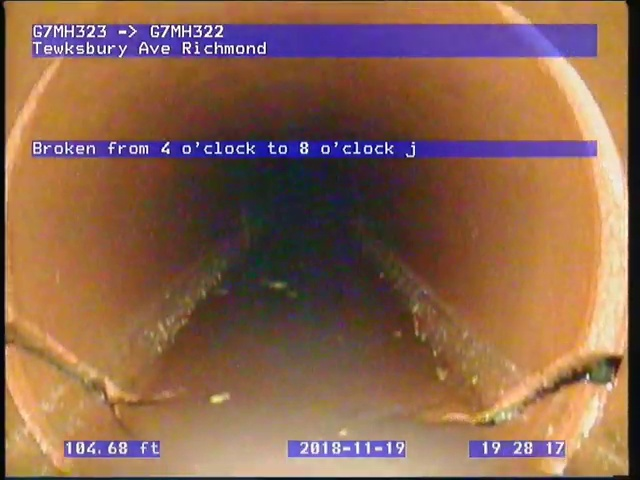crack: (6, 311, 169, 436), (443, 353, 627, 427)
